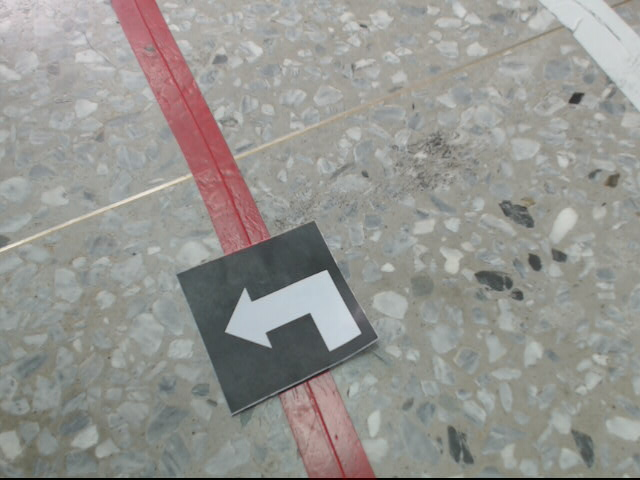left: (177, 218, 379, 416)
